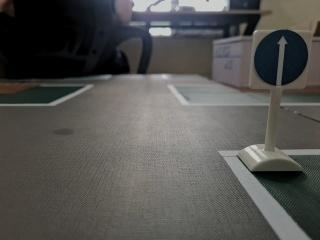straight: (249, 28, 313, 88)
